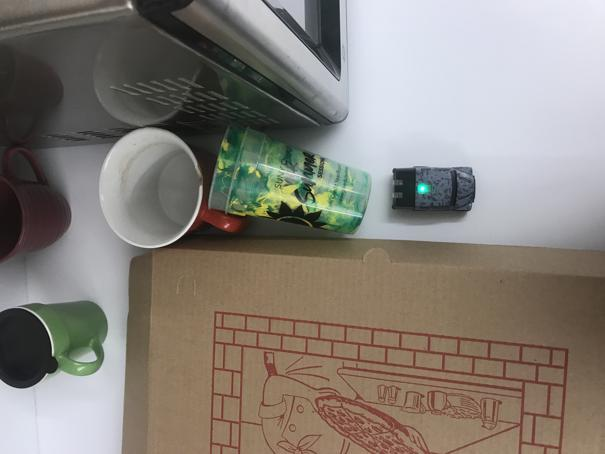MXT: (391, 166, 476, 212)
